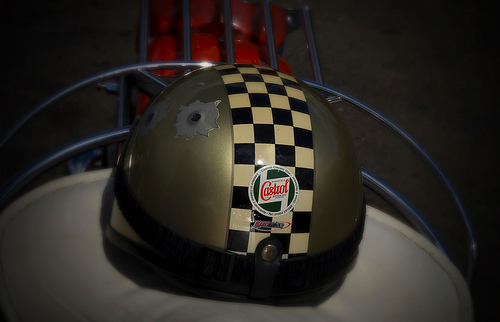helmet: (131, 64, 363, 284)
